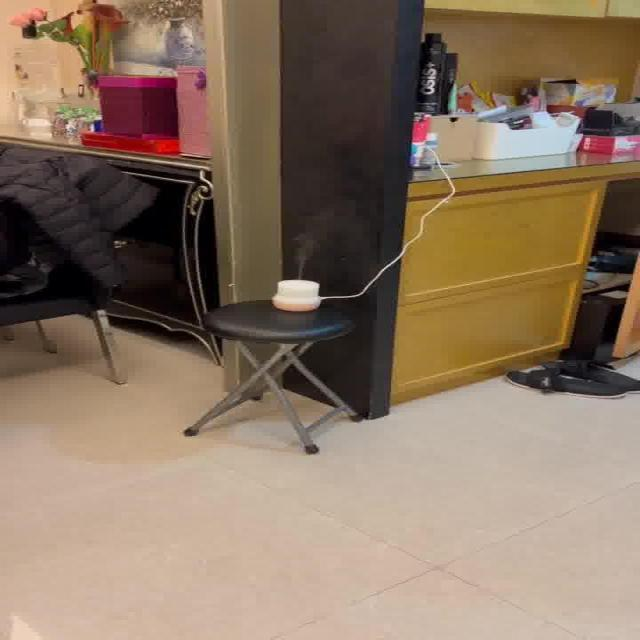fire: (288, 207, 358, 276)
